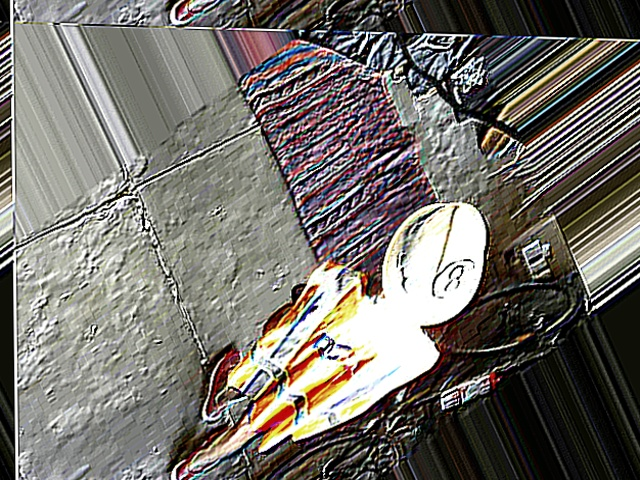eight: (426, 249, 481, 308)
